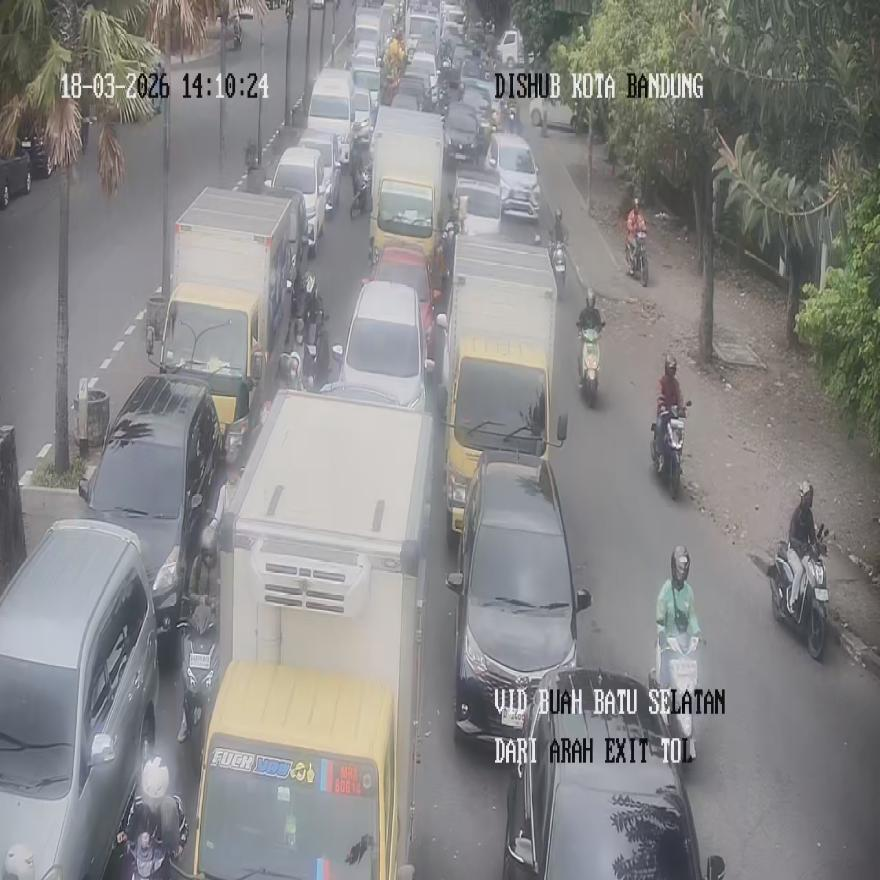Motor: (0, 520, 158, 876), (502, 669, 725, 878), (446, 448, 590, 740), (78, 374, 220, 637), (330, 278, 435, 410), (364, 240, 442, 366)
Truk: (767, 527, 828, 660), (176, 600, 218, 771), (651, 634, 699, 762), (651, 400, 690, 498), (301, 309, 327, 391), (578, 326, 600, 407), (627, 230, 648, 286), (548, 228, 566, 290), (350, 166, 370, 218), (230, 14, 242, 52)
